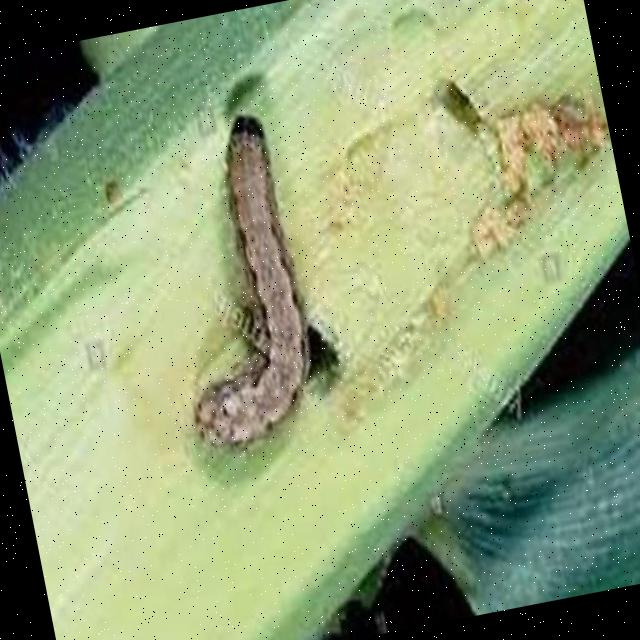worm: (140, 112, 334, 460)
